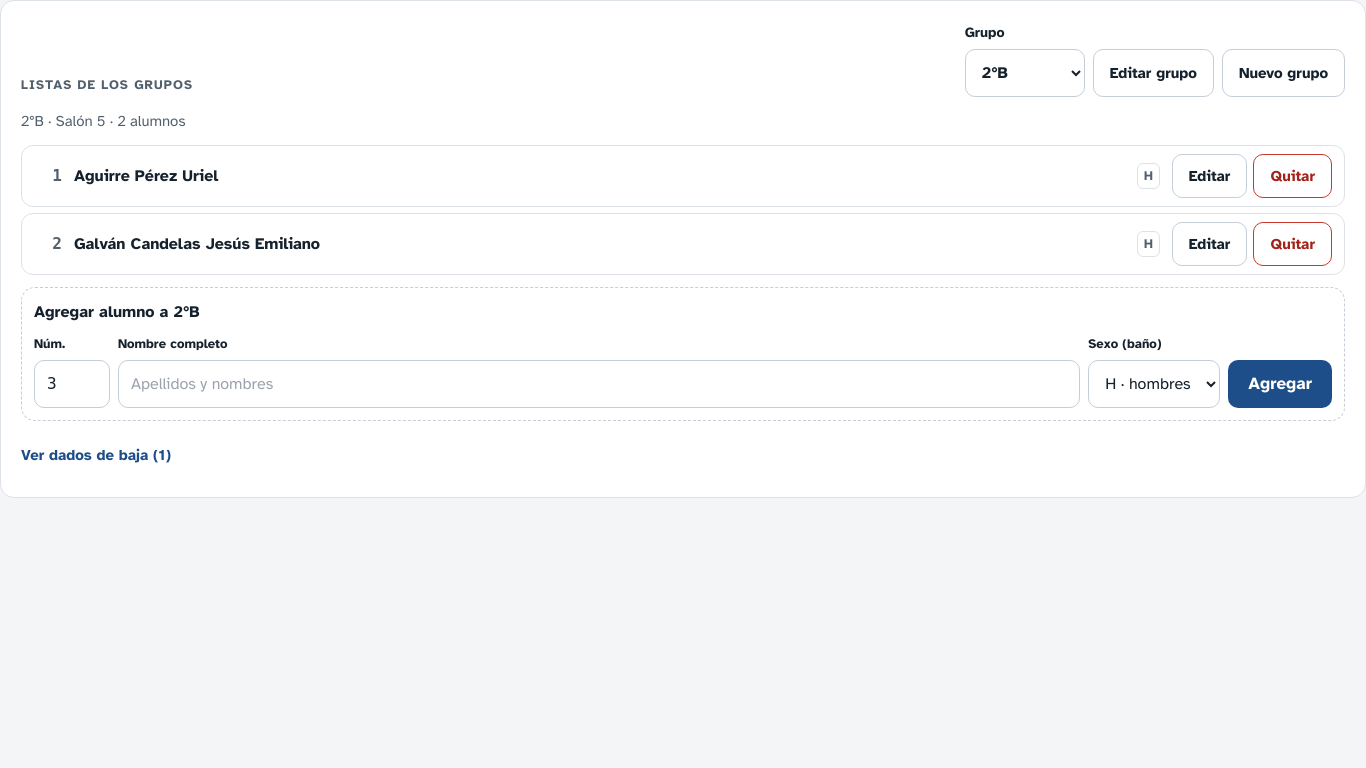
Test: Ajustes → listas de los grupos › muestra la lista completa del grupo y oculta las bajas
This screenshot has width=1366, height=768.
expect the text "Galván Candelas Jesús Emiliano" is shown: met, box x1=74 y1=234 x2=320 y2=254
expect the text "Olvera Morales María José" is not shown: met
What coordinates should you click on to do the following:
click the button "Ver dados de baja (1)"
I would click on:
 (96, 455)
Its box is x1=21 y1=433 x2=171 y2=477.
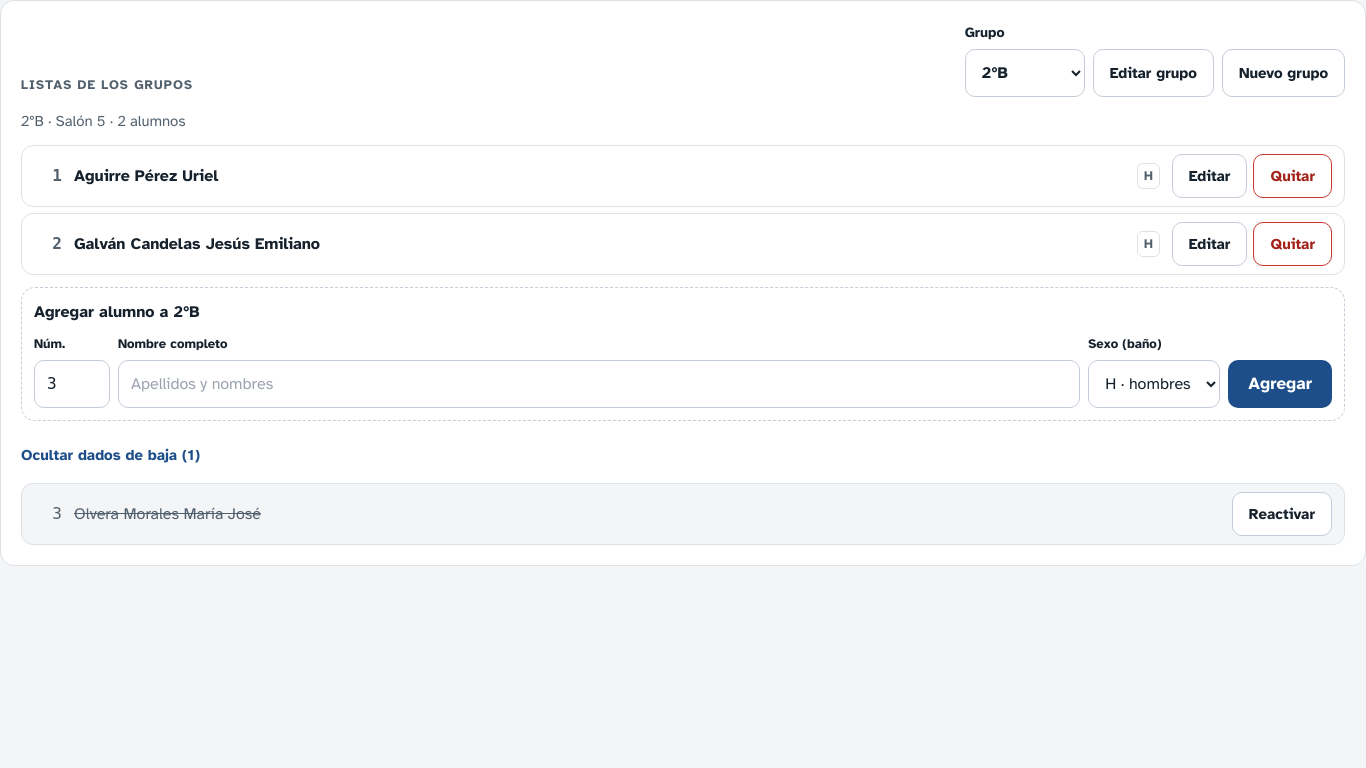
expect the text "Olvera Morales María José" is shown: met, box x1=74 y1=504 x2=261 y2=524
